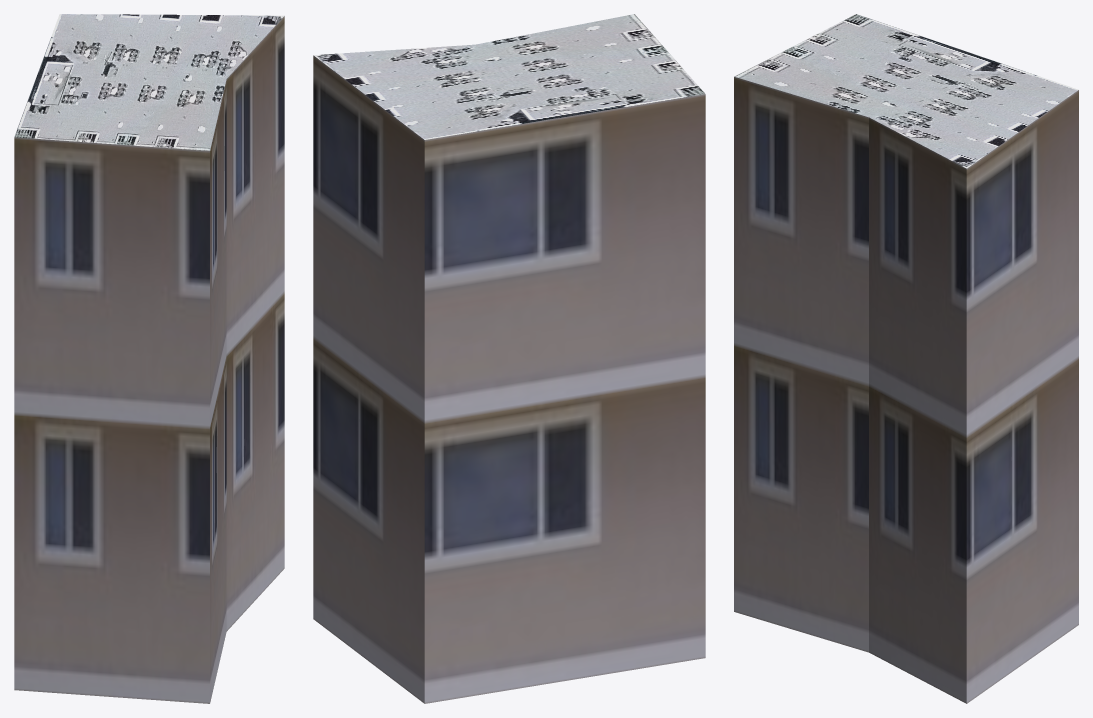
The model's file is ResTex__4924.fbx.
3 renders of one model, left to right at view 1: azimuth 30°, elevation 25°; view 2: azimuth 150°, elevation 25°; view 3: azimuth 270°, elevation 25°, orthographic. The views are drawn at different scales.
Visible parts, largest first — view 1: CityEngineMaterial_21_m, CityEngineMaterial_4_m; view 2: CityEngineMaterial_21_m, CityEngineMaterial_4_m; view 3: CityEngineMaterial_21_m, CityEngineMaterial_4_m.
Part boxes in pixels (x1,y1,x2,y2): CityEngineMaterial_21_m: [14, 16, 284, 703]; CityEngineMaterial_4_m: [14, 14, 284, 150]; CityEngineMaterial_21_m: [313, 55, 705, 703]; CityEngineMaterial_4_m: [314, 14, 705, 139]; CityEngineMaterial_21_m: [734, 76, 1078, 703]; CityEngineMaterial_4_m: [734, 14, 1078, 168].
Size of the model in its own units: 3.72 by 6 by 3.5.
Materials: 2 (2 with a texture image).
